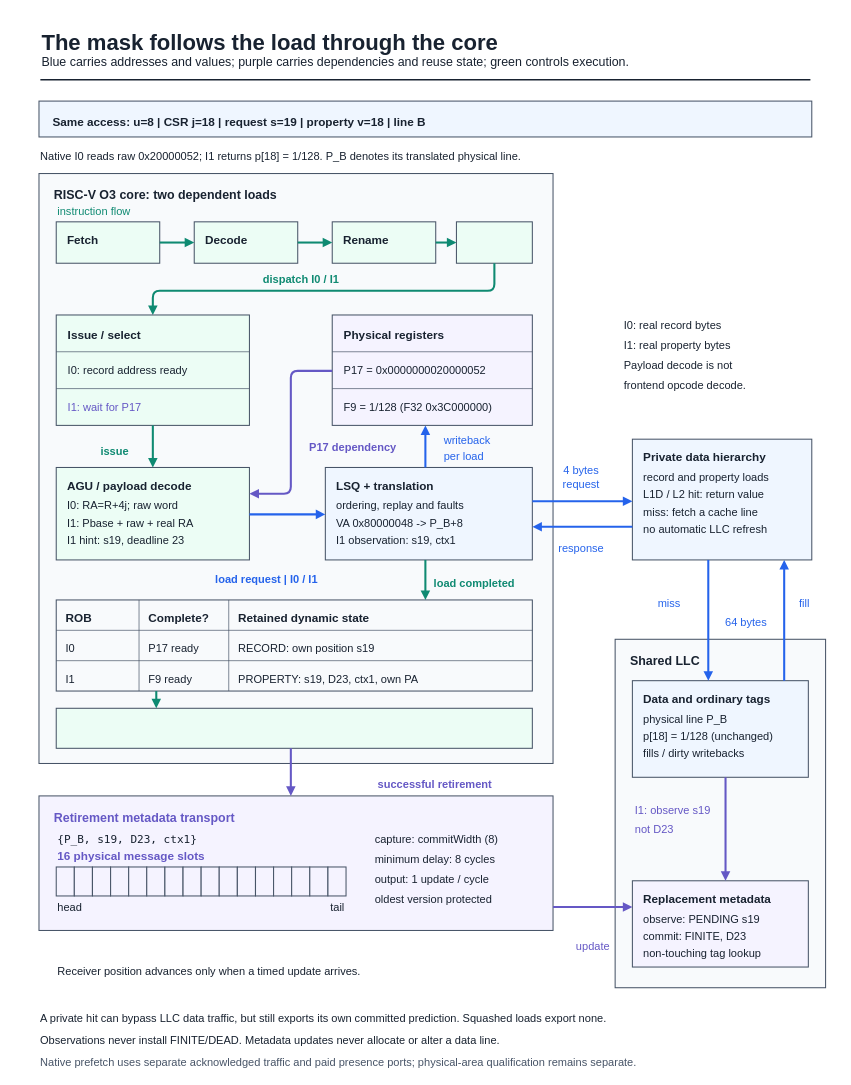
This 851x1085 diagram has some shape labels left out. The centre of each missing label's shape, as x and y in pixels:
"Commit: oldest completed, non-squashed instruction" belongs at point 294,728.
"Dispatch" belongs at point 494,242.
